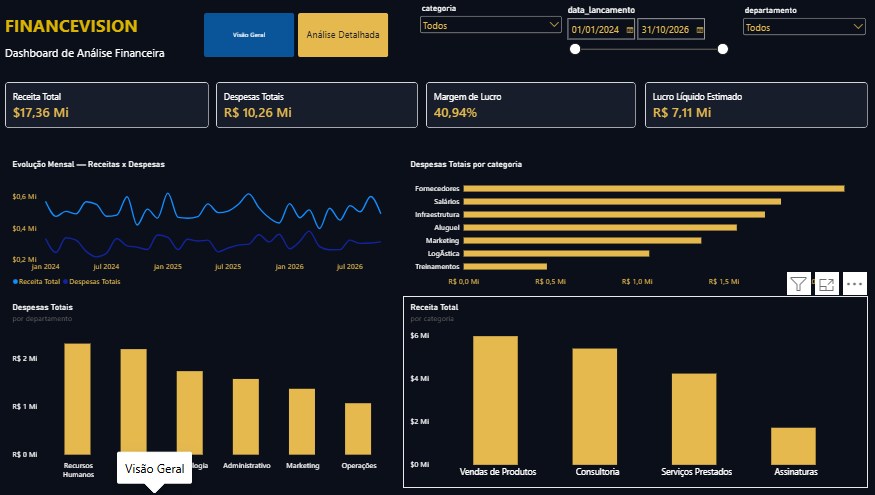

The page's visual inventory and layout, read from the dashboard file:
{"tool":"powerbi","page":{"name":"Visão Geral","canvas":[1920,1080],"ordinal":0},"visuals":[{"type":"cardVisual","fields":{"Data":["financevision lancamentos.Receita Total"]},"box":[17.3,183.6,440.6,99.4],"z":0},{"type":"cardVisual","fields":{"Data":["financevision lancamentos.Despesas Totais"]},"box":[473,183.6,436.3,99.4],"z":1000},{"type":"cardVisual","fields":{"Data":["financevision lancamentos.Margem de Lucro"]},"box":[926.6,183.6,453.6,99.4],"z":2000},{"type":"cardVisual","fields":{"Data":["financevision lancamentos.Lucro Líquido Estimado"]},"box":[1399.7,183.6,481.7,99.4],"z":3000},{"type":"textbox","box":[17.6,17.6,360.3,143.6],"z":4000},{"type":"lineChart","title":"Evolução Mensal — Receitas x Despesas","fields":{"Category":["financevision lancamentos.data_lancamento.Variação.Hierarquia de datas.Ano","financevision lancamentos.data_lancamento.Variação.Hierarquia de datas.Mês"],"Y":["financevision lancamentos.Receita Total","financevision lancamentos.Despesas Totais"]},"box":[17.3,337,859.7,308.9],"z":5000},{"type":"clusteredBarChart","fields":{"Category":["financevision lancamentos.categoria"],"Y":["financevision lancamentos.Despesas Totais"]},"box":[877,337,1004.4,308.9],"z":5001},{"type":"slicer","title":"departamento","fields":{"Values":["financevision lancamentos.departamento"]},"box":[1607,17.3,274.3,142.6],"z":5002},{"type":"slicer","fields":{"Values":["financevision lancamentos.data_lancamento"]},"box":[1224.7,17.3,358.6,142.6],"z":5003},{"type":"clusteredColumnChart","fields":{"Category":["financevision lancamentos.departamento"],"Y":["financevision lancamentos.Despesas Totais"]},"box":[17.3,645.8,859.7,414.7],"z":5004},{"type":"clusteredColumnChart","fields":{"Category":["financevision lancamentos.categoria"],"Y":["financevision lancamentos.Receita Total"]},"box":[877,645.8,1004.4,414.7],"z":5005},{"type":"pageNavigator","box":[447.1,34.6,399.6,95],"z":5006},{"type":"slicer","title":"Categoria","fields":{"Values":["financevision lancamentos.categoria"]},"box":[909.4,13,315.4,146.9],"z":5007}]}

Visuals, with their boxes in screenshot pixels (x1, y1, x2, y2), scaled from the page's 1920x1080 canvas onto the 875x495 screenshot:
cardVisual - financevision lancamentos.Receita Total: (8, 84, 209, 130)
cardVisual - financevision lancamentos.Despesas Totais: (216, 84, 414, 130)
cardVisual - financevision lancamentos.Margem de Lucro: (422, 84, 629, 130)
cardVisual - financevision lancamentos.Lucro Líquido Estimado: (638, 84, 857, 130)
textbox: (8, 8, 172, 74)
"Evolução Mensal — Receitas x Despesas" lineChart: (8, 154, 400, 296)
clusteredBarChart - financevision lancamentos.categoria x financevision lancamentos.Despesas Totais: (400, 154, 857, 296)
"departamento" slicer: (732, 8, 857, 73)
slicer - financevision lancamentos.data_lancamento: (558, 8, 722, 73)
clusteredColumnChart - financevision lancamentos.departamento x financevision lancamentos.Despesas Totais: (8, 296, 400, 486)
clusteredColumnChart - financevision lancamentos.categoria x financevision lancamentos.Receita Total: (400, 296, 857, 486)
pageNavigator: (204, 16, 386, 59)
"Categoria" slicer: (414, 6, 558, 73)
